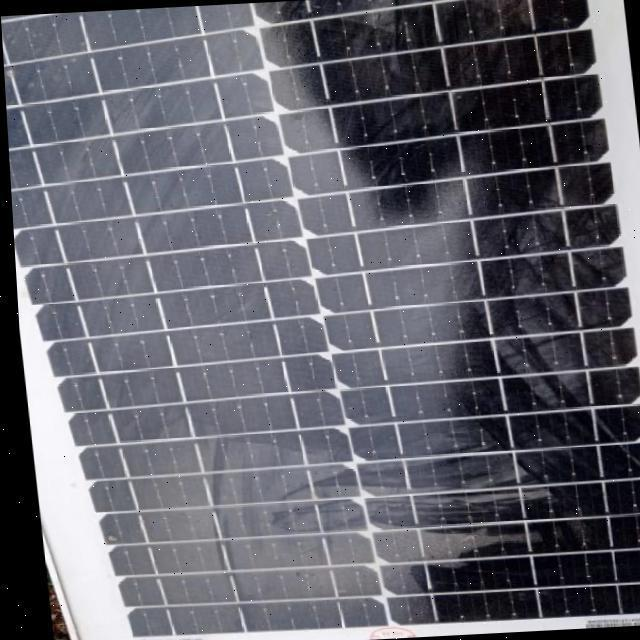Surface Contaminant: (39, 220, 515, 640)
